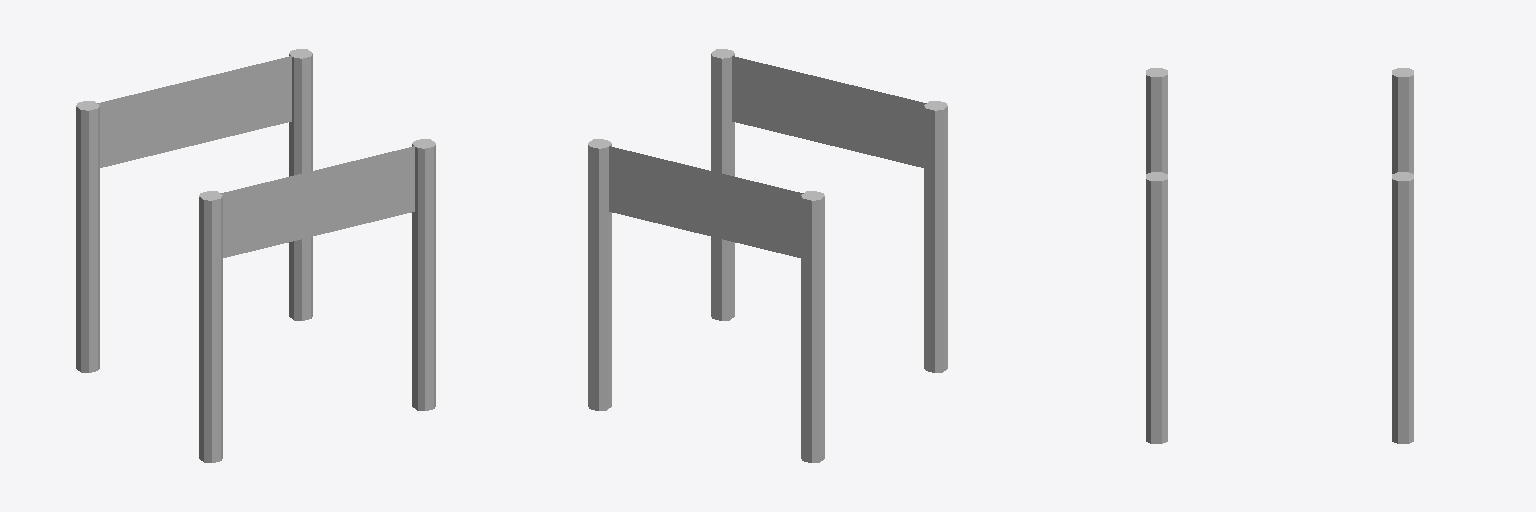
Rendered from banner-double-high.obj.
3 views of the same model, side by side, from view 1: azimuth 30°, elevation 25°; view 2: azimuth 150°, elevation 25°; view 3: azimuth 270°, elevation 25° (orthographic).
Visible parts, largest first — view 1: banner-double-high; view 2: banner-double-high; view 3: banner-double-high.
Boxes of the visible parts, box(x1,y1,x2,y2) form: banner-double-high: box(76, 49, 435, 462); banner-double-high: box(588, 49, 947, 462); banner-double-high: box(1146, 68, 1413, 443).
Bounding box in the file's own units: 0.925 × 1 × 0.925.